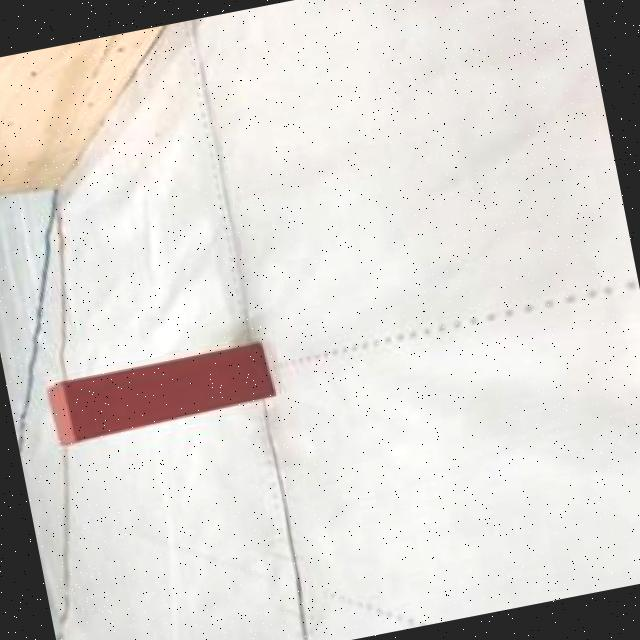redbox: (44, 338, 280, 448)
